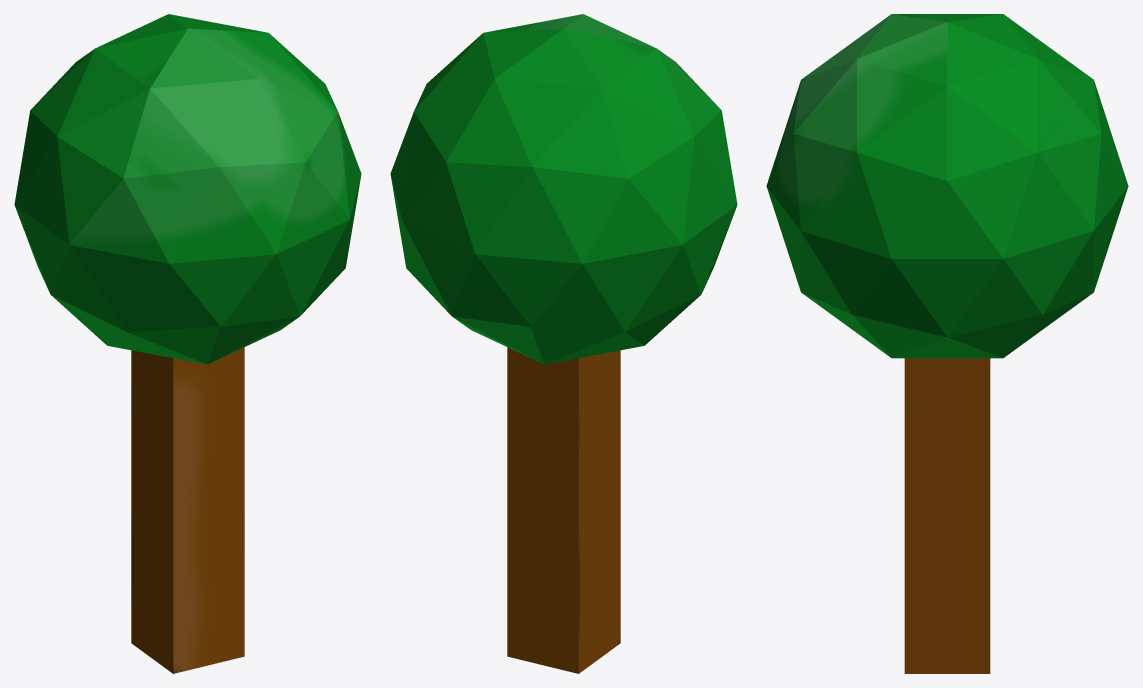
File: tree.glb
3 renders of one model, left to right at view 1: azimuth 30°, elevation 25°; view 2: azimuth 150°, elevation 25°; view 3: azimuth 270°, elevation 25°, orthographic. The views are drawn at different scales.
Parts seen in each view (by area): view 1: Cube; view 2: Cube; view 3: Cube.
Boxes of the visible parts, x1,y1,x2,y2 form: Cube: [14, 14, 361, 673]; Cube: [390, 14, 737, 673]; Cube: [766, 14, 1128, 673].
Size of the model in its own units: 1.46 by 2.97 by 1.54.
Materials: 1 (1 with a texture image).
